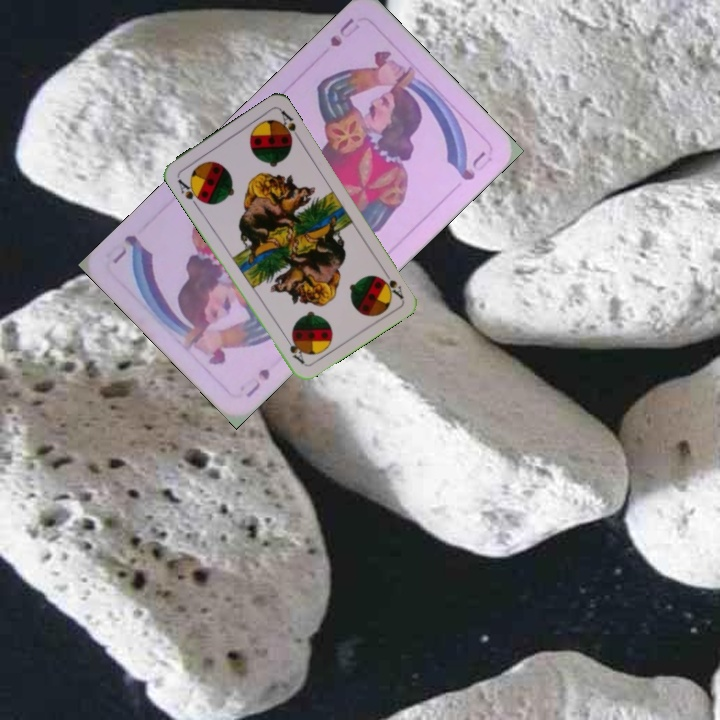SA: (173, 175, 206, 210), (377, 265, 406, 302)
SU: (238, 364, 273, 401), (325, 13, 357, 49)
